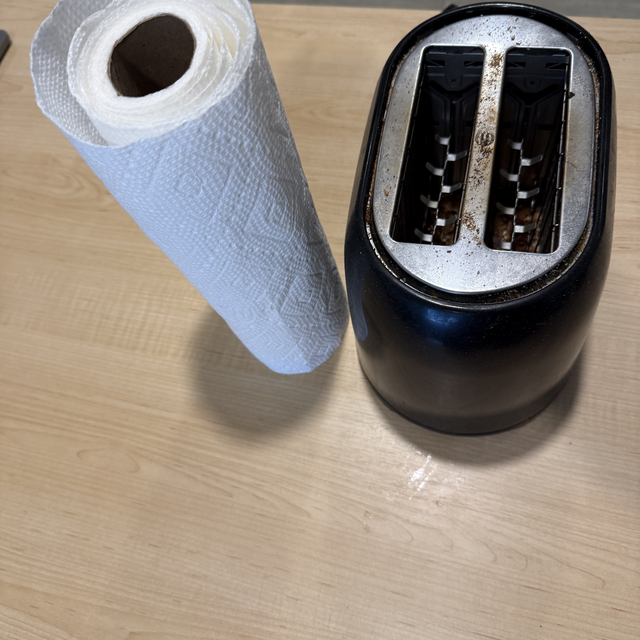Paper Towel: (34, 22, 355, 378)
Toaster: (347, 0, 606, 443)
